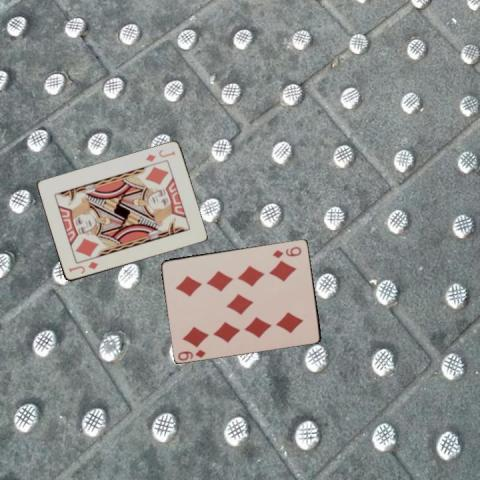9d: (270, 243, 303, 260), (176, 347, 208, 361)
Jd: (66, 259, 100, 275), (143, 148, 176, 164)
